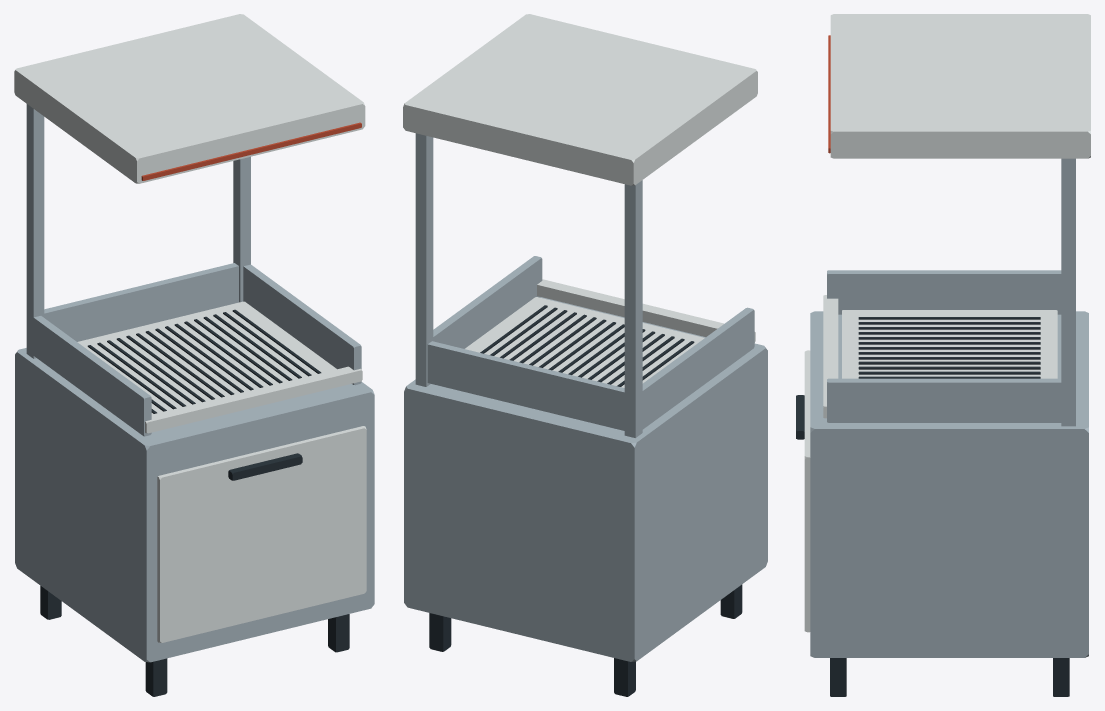
The model's file is FriesHoldingStation.glb.
3 views of the same model, side by side, from view 1: azimuth 30°, elevation 25°; view 2: azimuth 150°, elevation 25°; view 3: azimuth 270°, elevation 25° (orthographic). The views are drawn at different scales.
Parts seen in each view (by area): view 1: Body, Vent; view 2: Body, Vent; view 3: Body, Vent.
Boxes of the visible parts, left/top/right/bottom form: Body: left=14, top=14, right=374, bottom=696; Vent: left=87, top=309, right=321, bottom=413; Body: left=403, top=14, right=767, bottom=696; Vent: left=480, top=305, right=694, bottom=386; Body: left=796, top=14, right=1090, bottom=696; Vent: left=858, top=317, right=1040, bottom=378.
Bounding box in the file's own units: 0.75 × 1.7 × 0.7935.
